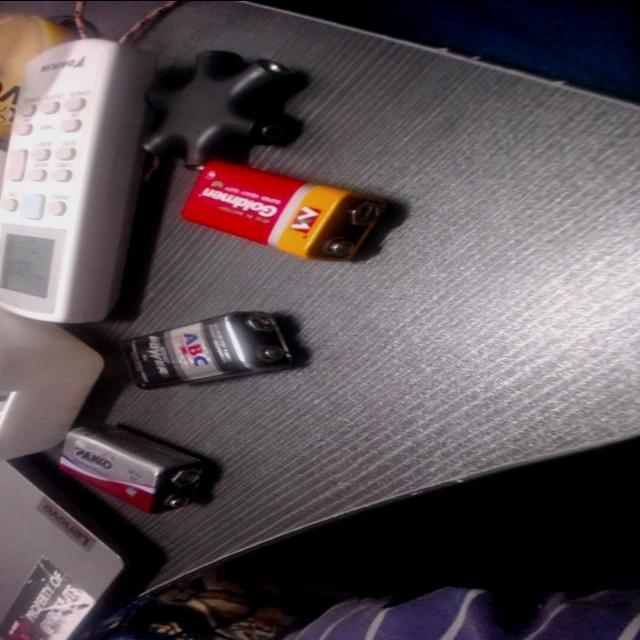9V: (157, 160, 412, 273), (104, 303, 312, 397), (42, 416, 222, 515)
